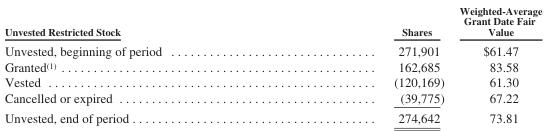table: (3, 4, 541, 125)
table column: (3, 4, 277, 125), (277, 4, 451, 125), (451, 4, 541, 125)
table column header: (3, 4, 541, 40)
table row: (3, 4, 541, 40), (3, 40, 541, 58), (3, 89, 541, 107), (3, 107, 541, 125), (3, 58, 541, 74), (3, 74, 541, 89)
